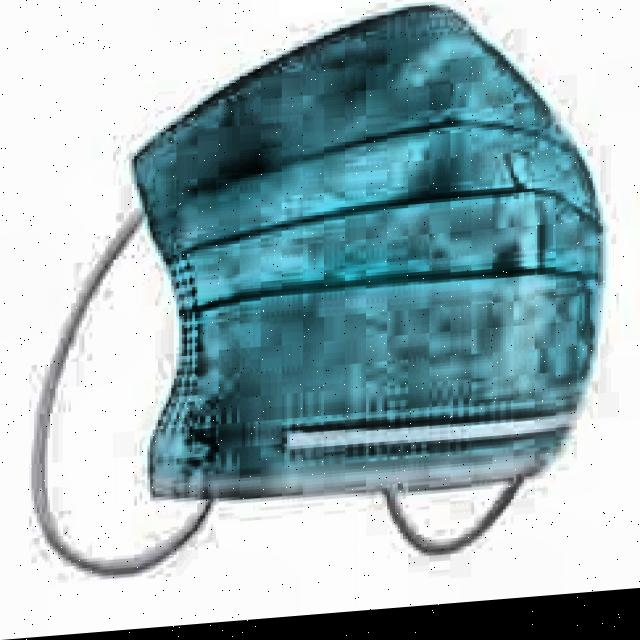trash: (130, 0, 604, 548)
